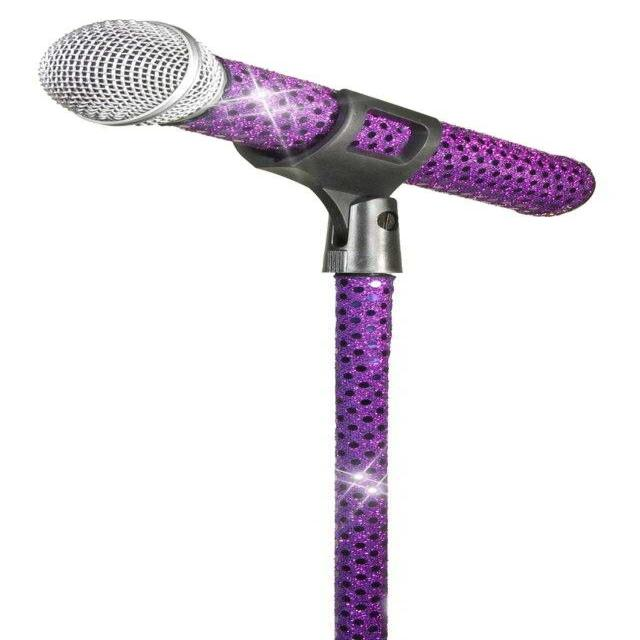microphone: (42, 21, 587, 219)
